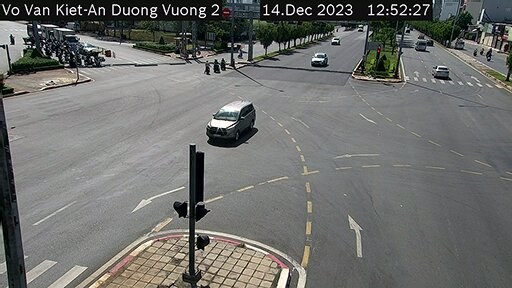car: (202, 93, 264, 148), (428, 65, 451, 80), (313, 51, 328, 70), (330, 33, 338, 45)
